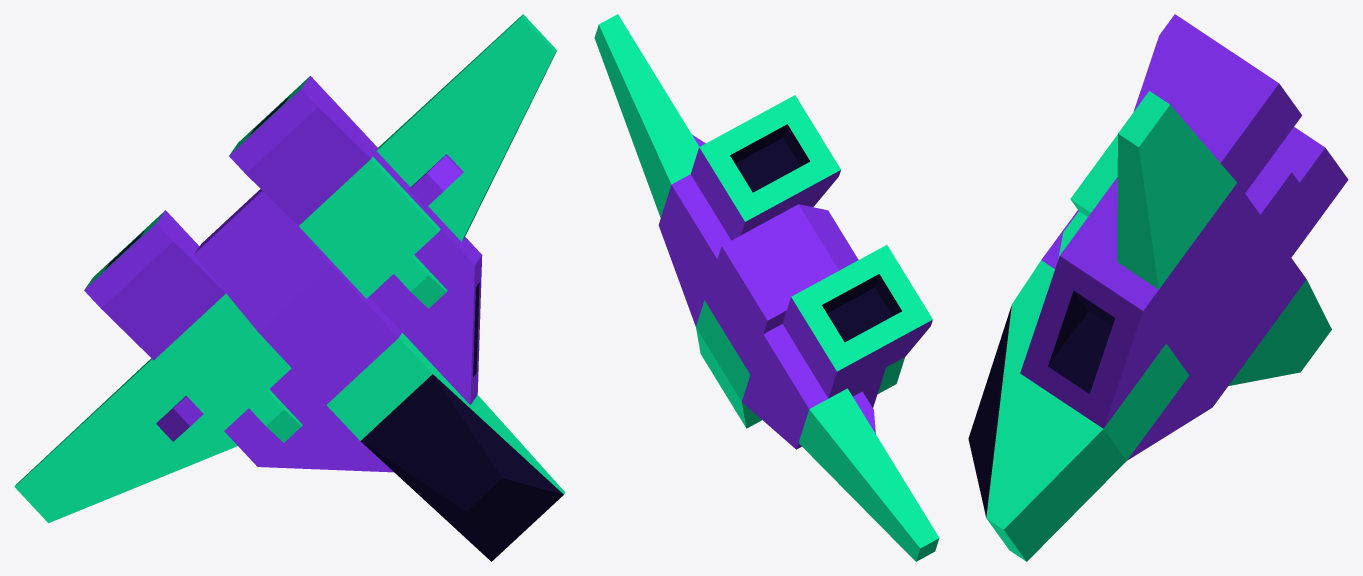
Rendered from bfos.gltf.
3 views of the same model, side by side, from view 1: azimuth 30°, elevation 25°; view 2: azimuth 150°, elevation 25°; view 3: azimuth 270°, elevation 25° (orthographic). The views are drawn at different scales.
Visible parts, largest first — view 1: craft_speederC; view 2: craft_speederC; view 3: craft_speederC.
Part boxes in pixels (x1=…): craft_speederC: x1=14, y1=14, x2=565, y2=561; craft_speederC: x1=594, y1=14, x2=939, y2=561; craft_speederC: x1=968, y1=14, x2=1348, y2=561.
Size of the model in its own units: 2.15 by 2.13 by 1.42.
